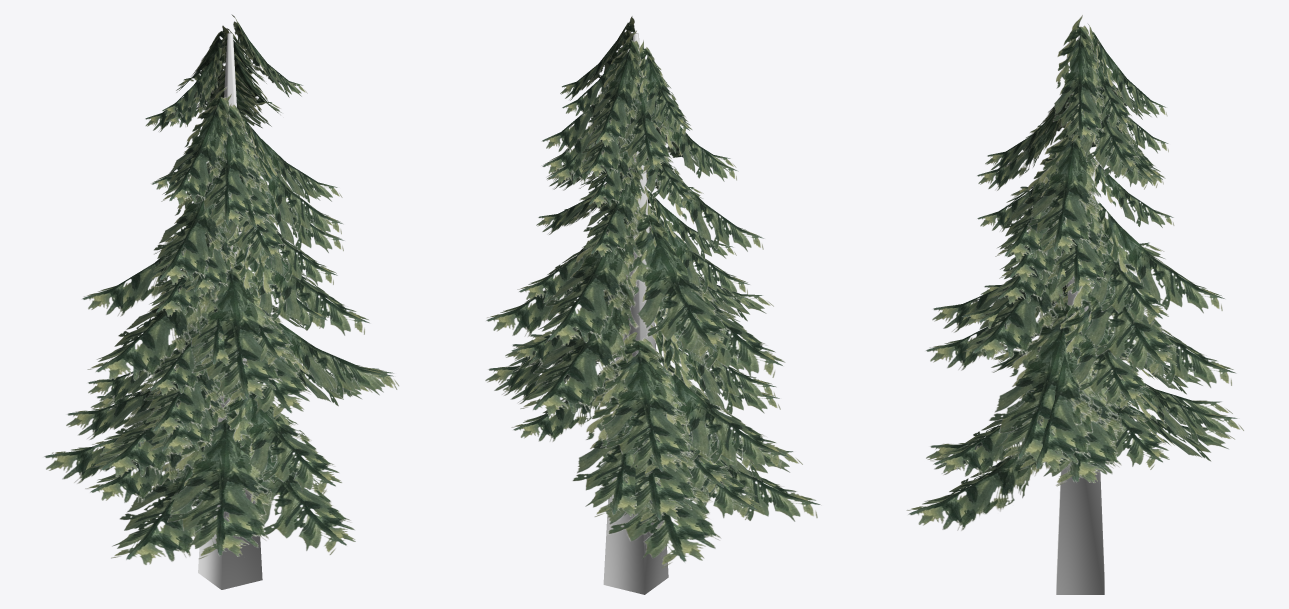
The model's file is PIN.glb.
3 renders of one model, left to right at view 1: azimuth 30°, elevation 25°; view 2: azimuth 150°, elevation 25°; view 3: azimuth 270°, elevation 25°, orthographic.
Parts seen in each view (by area): view 1: Plane.001, PIN.tronc.colonly; view 2: Plane.001, PIN.tronc.colonly; view 3: Plane.001, PIN.tronc.colonly.
Part boxes in pixels (x1,y1,x2,y2): Plane.001: (44,14,398,564); PIN.tronc.colonly: (198,32,262,589); Plane.001: (485,16,820,568); PIN.tronc.colonly: (603,33,668,594); Plane.001: (906,14,1243,530); PIN.tronc.colonly: (1056,35,1104,594).
Bounding box in the file's own units: 7.24 × 11.25 × 7.04.
Materials: 1 (1 with a texture image).
